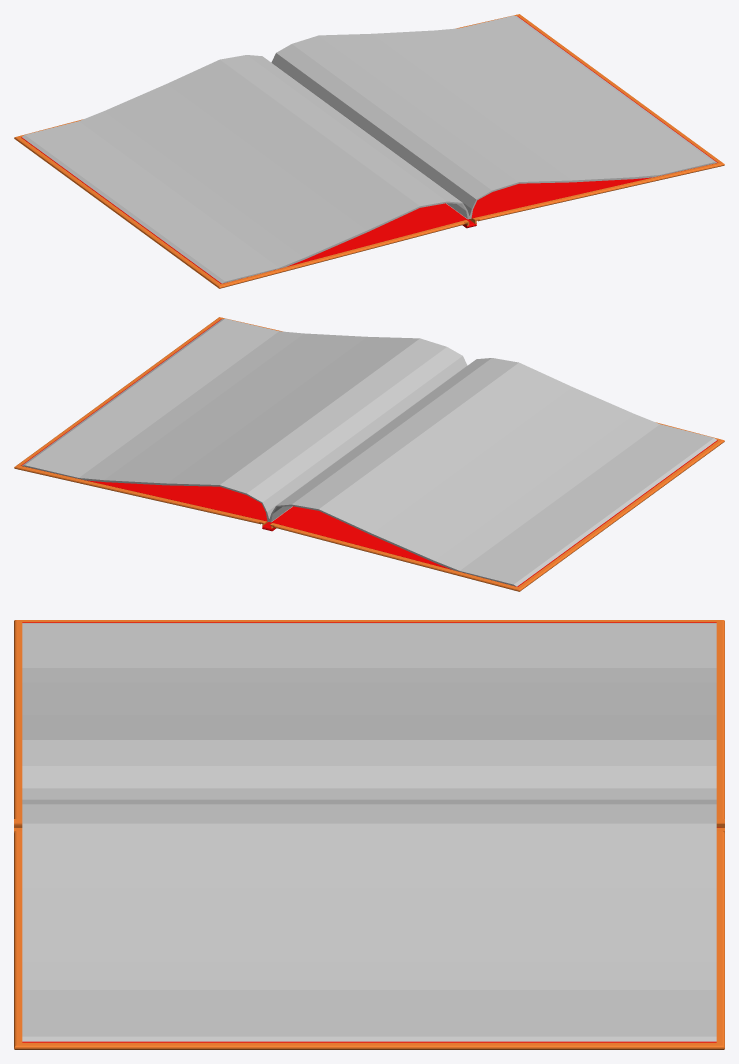
File: bdOuverte.obj
The picture shows the model from 3 angles, top to bottom: view 1: azimuth 30°, elevation 25°; view 2: azimuth 150°, elevation 25°; view 3: azimuth 270°, elevation 25°; orthographic projection. The views are drawn at different scales.
Visible parts, largest first — view 1: pages_gauches, pages_droites, page_couverture_droite, page_couverture_gauche, face_avant, face_arriere; view 2: pages_gauches, pages_droites, page_couverture_droite, page_couverture_gauche, face_avant, face_arriere; view 3: pages_droites, pages_gauches, face_arriere, face_avant, page_couverture_droite, page_couverture_gauche.
Boxes of the visible parts, box(x1,y1,x2,y2) form: pages_gauches: box(22, 55, 470, 283); pages_droites: box(271, 15, 716, 218); page_couverture_droite: box(471, 16, 717, 218); page_couverture_gauche: box(21, 137, 467, 283); face_avant: box(14, 119, 465, 288); face_arriere: box(456, 14, 724, 221); pages_gauches: box(268, 358, 716, 586); pages_droites: box(22, 318, 467, 521); page_couverture_droite: box(21, 319, 267, 521); page_couverture_gauche: box(271, 440, 717, 586); face_avant: box(273, 422, 724, 591); face_arriere: box(14, 317, 282, 524); pages_droites: box(22, 799, 716, 1041); pages_gauches: box(22, 623, 716, 799); face_arriere: box(14, 831, 724, 1049); face_avant: box(14, 620, 724, 818); page_couverture_droite: box(22, 1041, 716, 1042); page_couverture_gauche: box(22, 622, 716, 622).
Bounding box in the file's own units: 42.4 × 2.56 × 29.8.
